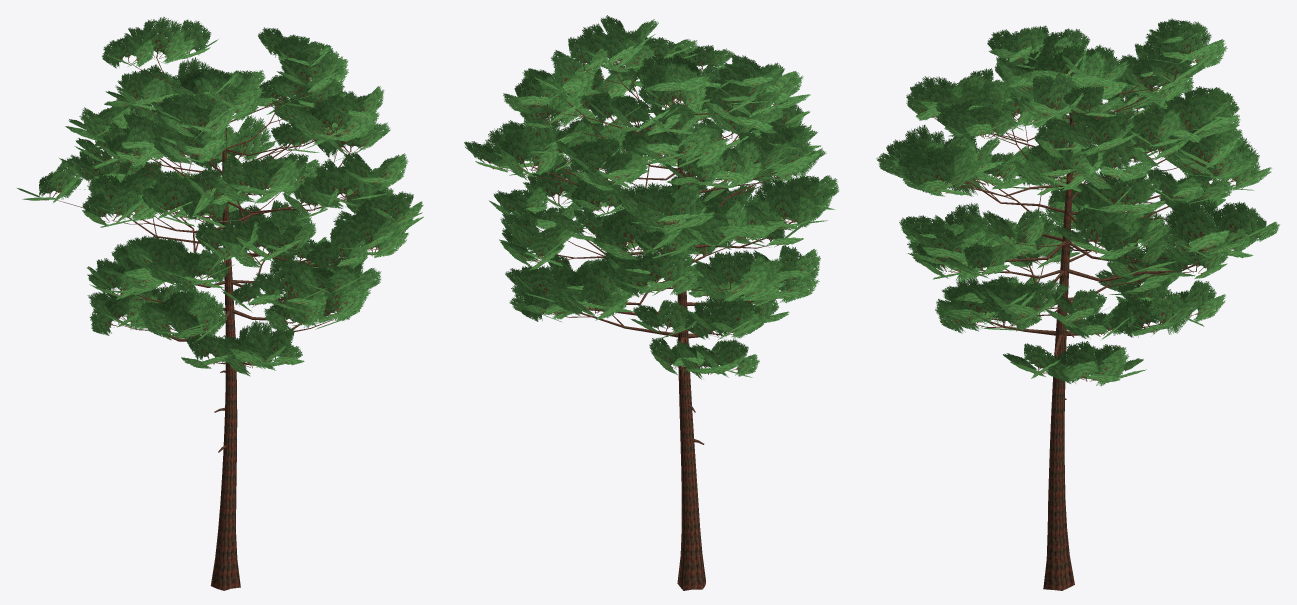
File: pine_dalat_tall.glb
The picture shows the model from 3 angles, left to right: view 1: azimuth 30°, elevation 25°; view 2: azimuth 150°, elevation 25°; view 3: azimuth 270°, elevation 25°; orthographic projection. The views are drawn at different scales.
Parts seen in each view (by area): view 1: pine_dalat_tall; view 2: pine_dalat_tall; view 3: pine_dalat_tall.
Part boxes in pixels (left/top/right/bottom): pine_dalat_tall: left=17, top=17, right=423, bottom=590; pine_dalat_tall: left=464, top=15, right=838, bottom=590; pine_dalat_tall: left=876, top=18, right=1279, bottom=590.
Size of the model in its own units: 17.07 by 25.36 by 17.09.
2 materials, 2 textured.
